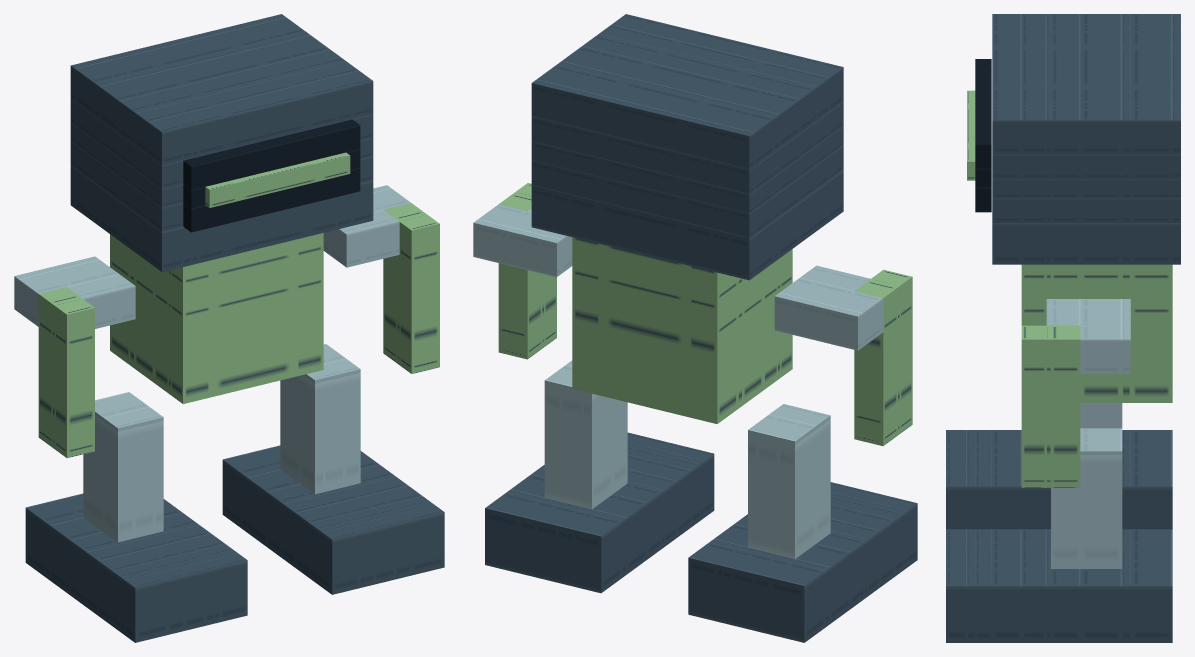
Rendered from sc_robot_mantis.obj.
3 renders of one model, left to right at view 1: azimuth 30°, elevation 25°; view 2: azimuth 150°, elevation 25°; view 3: azimuth 270°, elevation 25°, orthographic. The views are drawn at different scales.
Size of the model in its own units: 10.6 by 13.1 by 5.6.
1 material, 1 textured.
